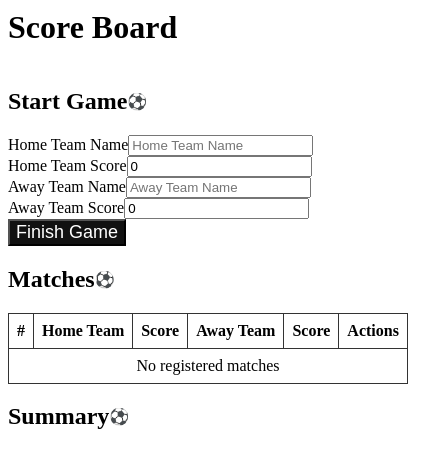
Test: <ScoreBoard /> › End a game › should show a red message if not "home match or away match" provide
Type "TEAM 1" into the field with placeholder "Home Team Name" at (221,145), box x1=128 y1=135 x2=313 y2=156
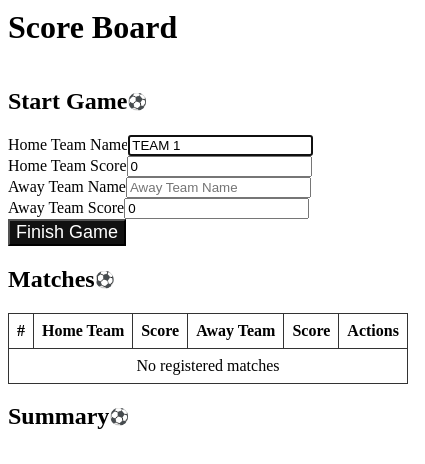
Clear the field with placeholder "Away Team Name" at (218,187), box x1=126 y1=177 x2=311 y2=198
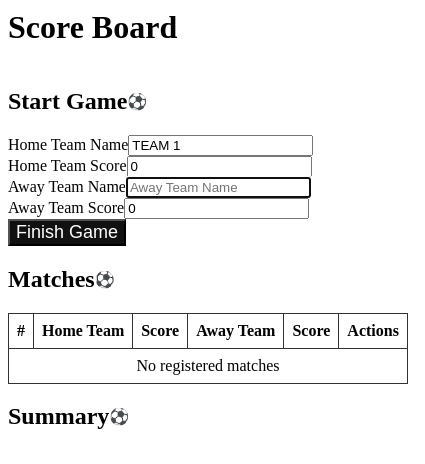
Click the button "Finish Game" at (67,232), box x1=8 y1=219 x2=126 y2=246
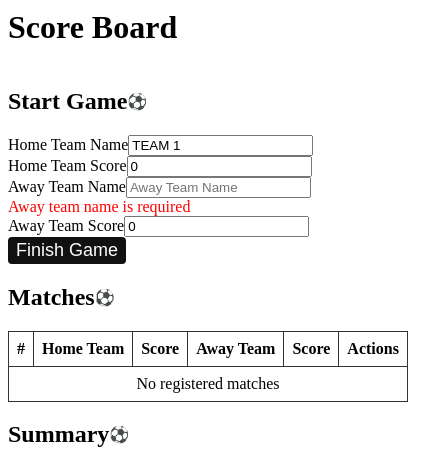
Result: the text "Away team name is required" is shown at x1=8 y1=198 x2=190 y2=215
Clear the field with placeholder "Home Team Name" at (221,145), box x1=128 y1=135 x2=313 y2=156
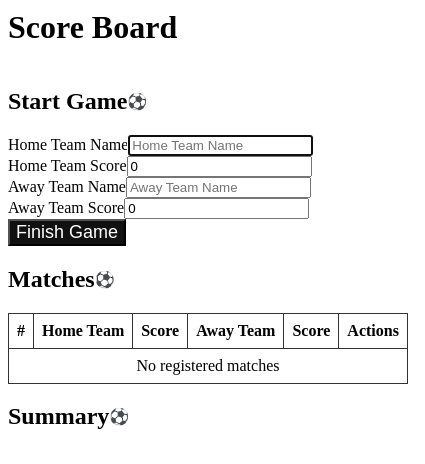
Type "TEAM 2" into the field with placeholder "Away Team Name" at (218,187), box x1=126 y1=177 x2=311 y2=198
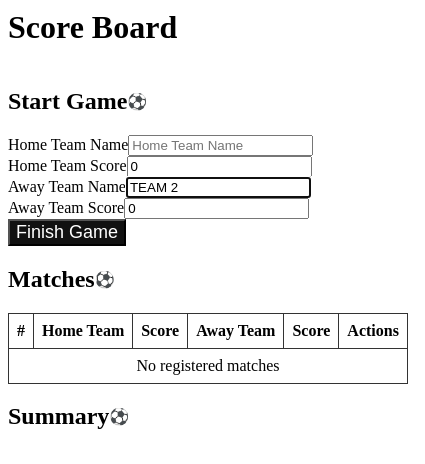
Click the button "Finish Game" at (67,232), box x1=8 y1=219 x2=126 y2=246
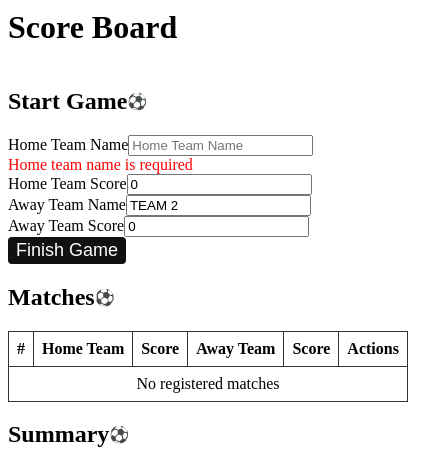
Result: the text "Home team name is required" is shown at x1=8 y1=156 x2=193 y2=173
